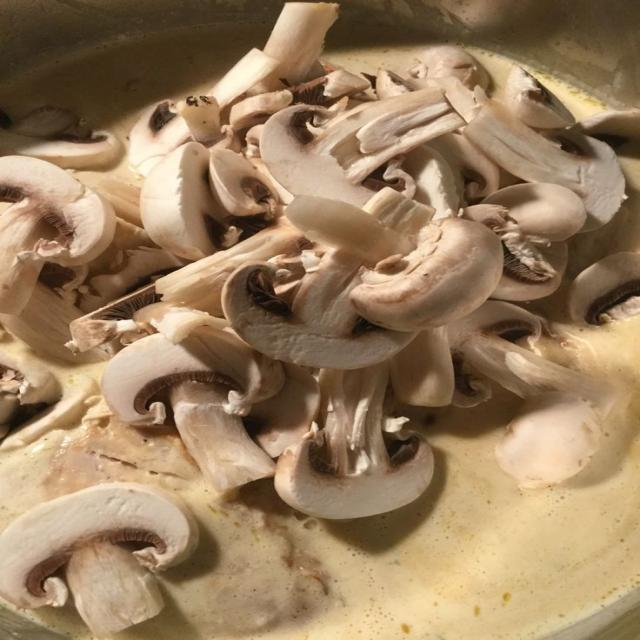champignon mushrooms: (222, 197, 426, 369), (0, 483, 198, 637), (101, 327, 284, 491), (286, 196, 502, 332), (275, 363, 433, 519), (260, 89, 463, 206), (222, 250, 414, 369), (464, 100, 625, 231), (448, 301, 617, 416), (0, 156, 115, 313), (350, 218, 502, 331), (156, 222, 310, 315), (464, 183, 586, 300), (140, 142, 236, 260), (495, 392, 600, 489), (0, 283, 106, 364), (252, 2, 339, 93), (0, 376, 99, 451), (78, 245, 185, 312), (244, 363, 319, 457), (67, 285, 159, 352), (483, 183, 586, 242), (209, 149, 278, 227), (568, 252, 639, 324), (390, 327, 454, 406), (0, 353, 60, 437), (428, 133, 499, 202), (0, 130, 121, 169), (129, 100, 191, 176), (403, 145, 463, 219), (505, 65, 574, 129), (209, 49, 279, 109), (409, 45, 488, 89), (230, 90, 293, 130), (3, 106, 79, 138), (96, 177, 142, 227), (176, 96, 221, 146), (574, 109, 639, 143), (452, 355, 492, 407), (375, 69, 415, 99)
